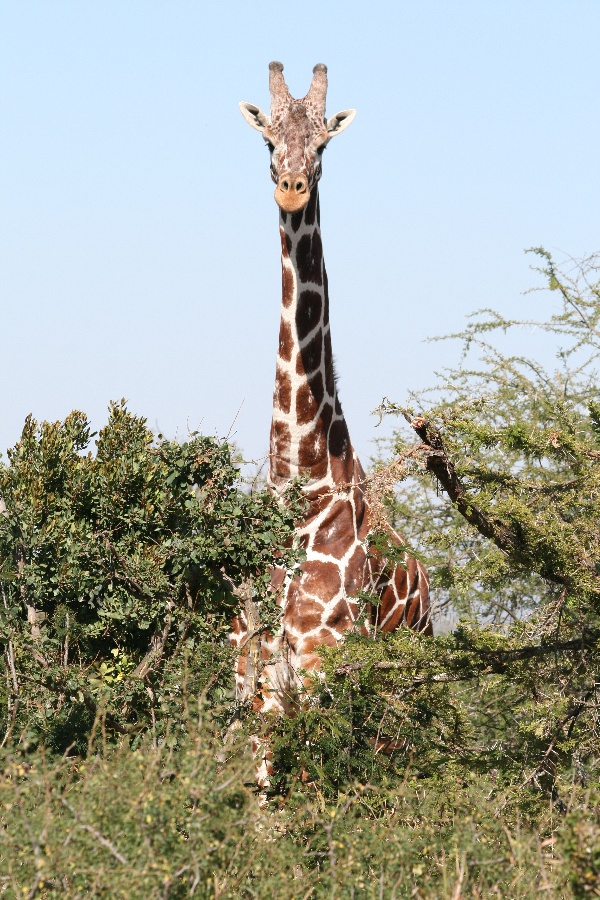giraffe: (220, 43, 471, 831)
